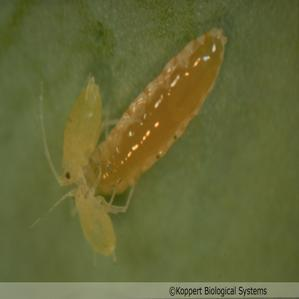Green peach aphid: (19, 14, 251, 265)
